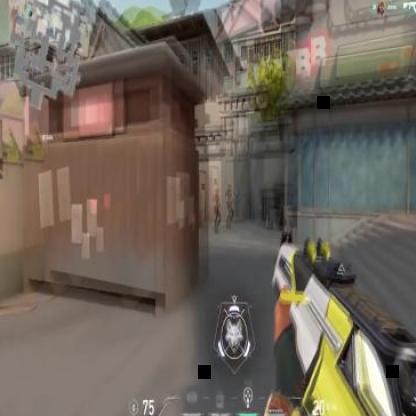enemy: (212, 188, 223, 236)
enemy_head: (215, 188, 219, 196)
